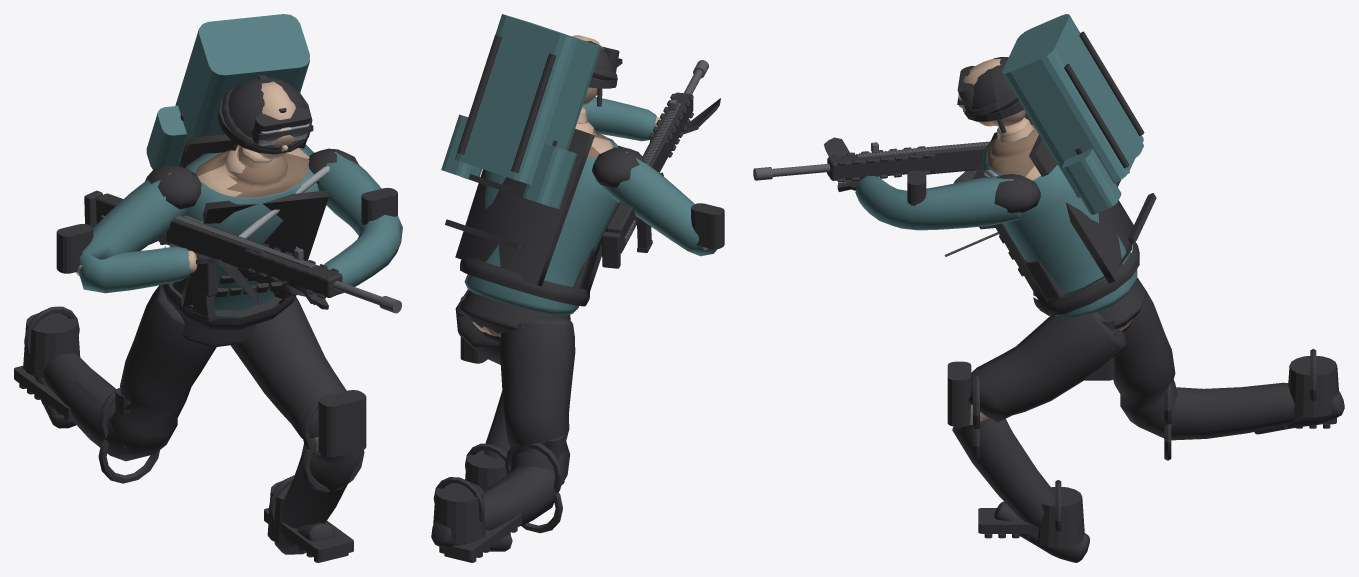
The model's file is arctic-station-fps-kit-attacker-heavy-advancing-aaa1c7e9__28526.glb.
The picture shows the model from 3 angles, left to right: view 1: azimuth 30°, elevation 25°; view 2: azimuth 150°, elevation 25°; view 3: azimuth 270°, elevation 25°; orthographic projection. The views are drawn at different scales.
Parts seen in each view (by area): view 1: attacker-heavy-advancing; view 2: attacker-heavy-advancing; view 3: attacker-heavy-advancing.
Part boxes in pixels (left/top/right/bottom): attacker-heavy-advancing: left=14, top=14, right=402, bottom=562; attacker-heavy-advancing: left=431, top=14, right=724, bottom=562; attacker-heavy-advancing: left=753, top=14, right=1344, bottom=562.
Bounding box in the file's own units: 0.8684 × 1.64 × 1.73.
